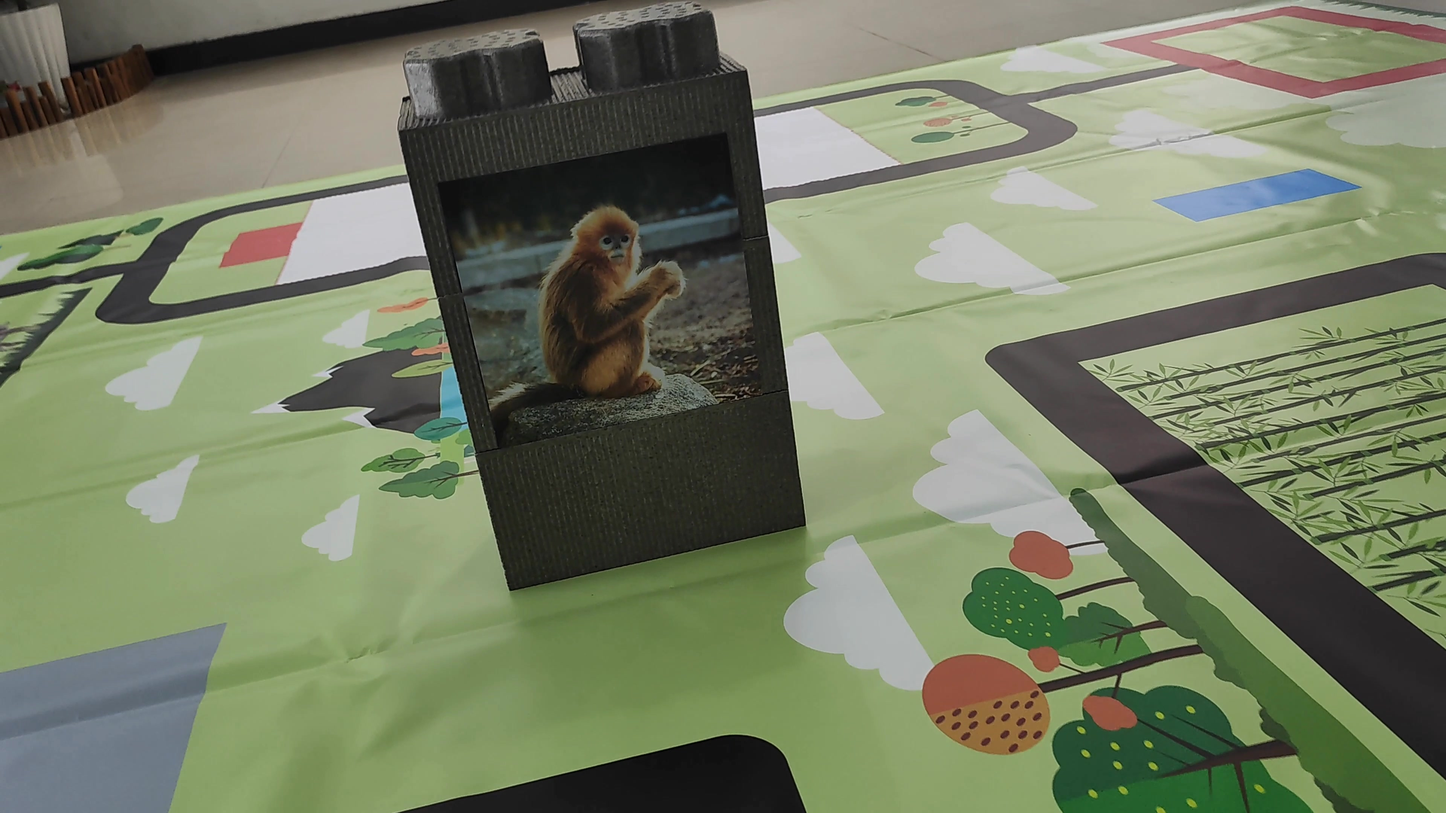monkey: (466, 182, 711, 446)
